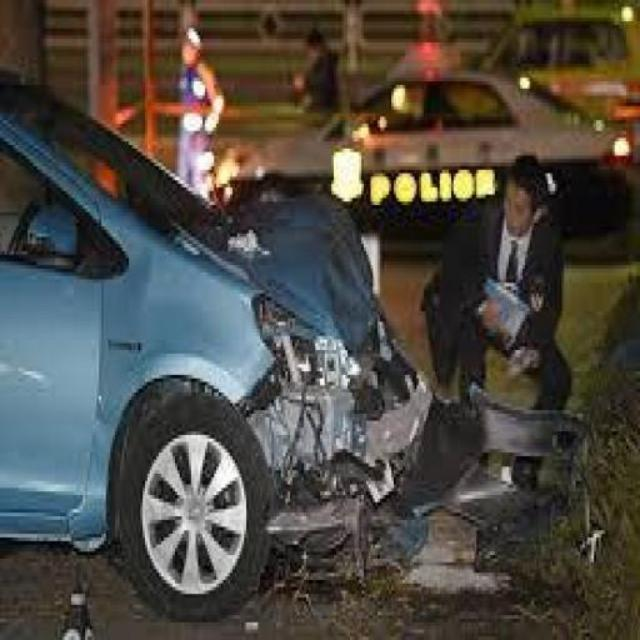no part: (213, 190, 581, 590)
